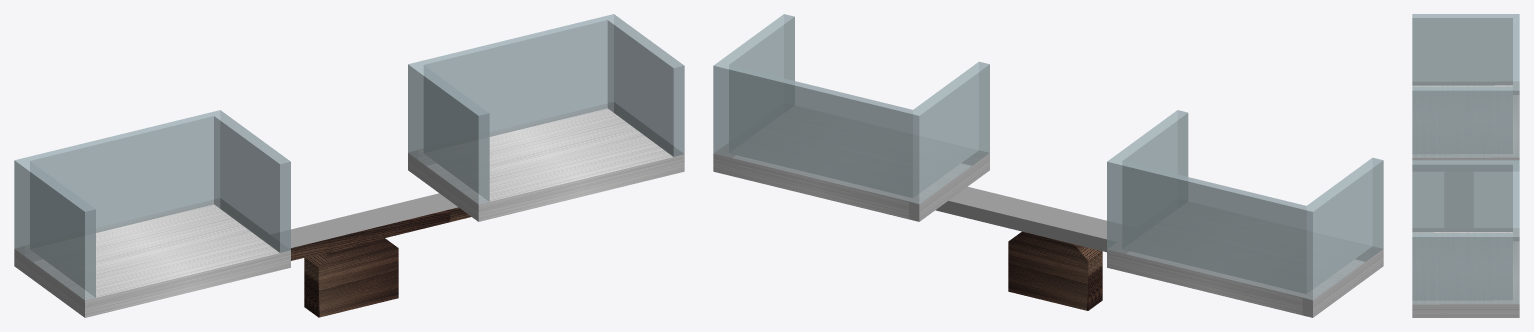
File: TERAZİ FB.fbx
The picture shows the model from 3 angles, left to right: view 1: azimuth 30°, elevation 25°; view 2: azimuth 150°, elevation 25°; view 3: azimuth 270°, elevation 25°; orthographic projection. The views are drawn at different scales.
Visible parts, largest first — view 1: polySurface1, polySurface4, pCube33, polySurface3; view 2: polySurface1, polySurface4, pCube33, polySurface3; view 3: polySurface4, polySurface1, polySurface3.
Boxes of the visible parts, x1,y1,x2,y2 form: polySurface1: [14, 110, 290, 317]; polySurface4: [408, 14, 684, 221]; pCube33: [304, 238, 398, 317]; polySurface3: [272, 193, 471, 260]; polySurface1: [1107, 110, 1383, 317]; polySurface4: [713, 14, 989, 221]; pCube33: [1008, 231, 1102, 310]; polySurface3: [935, 186, 1121, 252]; polySurface4: [1412, 160, 1519, 317]; polySurface1: [1412, 14, 1519, 170]; polySurface3: [1445, 172, 1472, 227].
Size of the model in its own units: 31.67 by 9.38 by 6.46.
